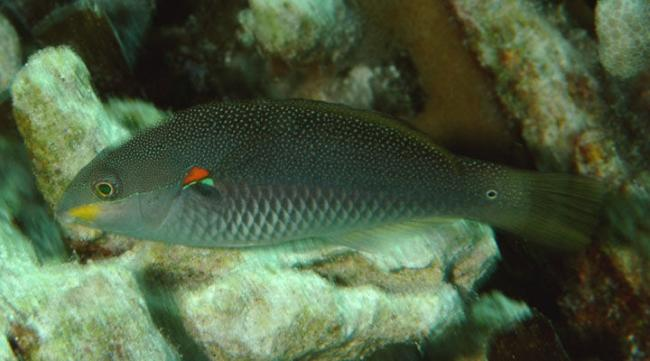fish: (54, 97, 603, 261)
